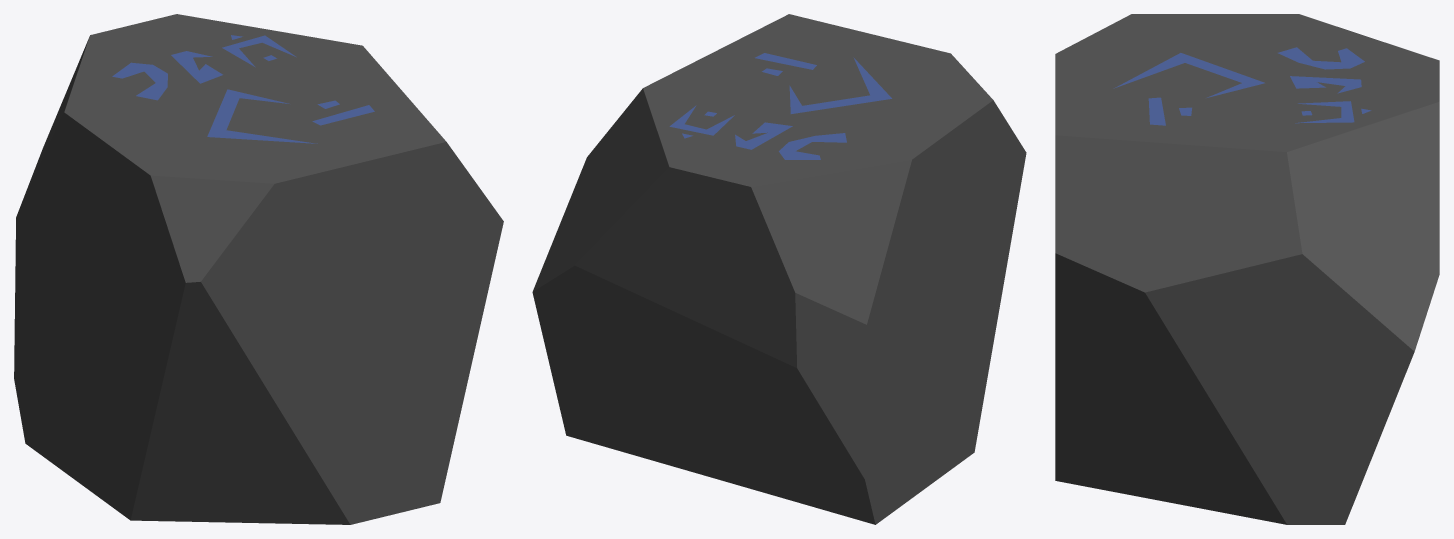
File: Ruins_11.fbx
3 views of the same model, side by side, from view 1: azimuth 30°, elevation 25°; view 2: azimuth 150°, elevation 25°; view 3: azimuth 270°, elevation 25° (orthographic). The views are drawn at different scales.
Parts seen in each view (by area): view 1: Ruins_11; view 2: Ruins_11; view 3: Ruins_11.
Part boxes in pixels (x1,y1,x2,y2): Ruins_11: (14, 14, 503, 524); Ruins_11: (532, 14, 1026, 524); Ruins_11: (1055, 14, 1439, 524).
Size of the model in its own units: 87.69 by 87.69 by 87.69.
